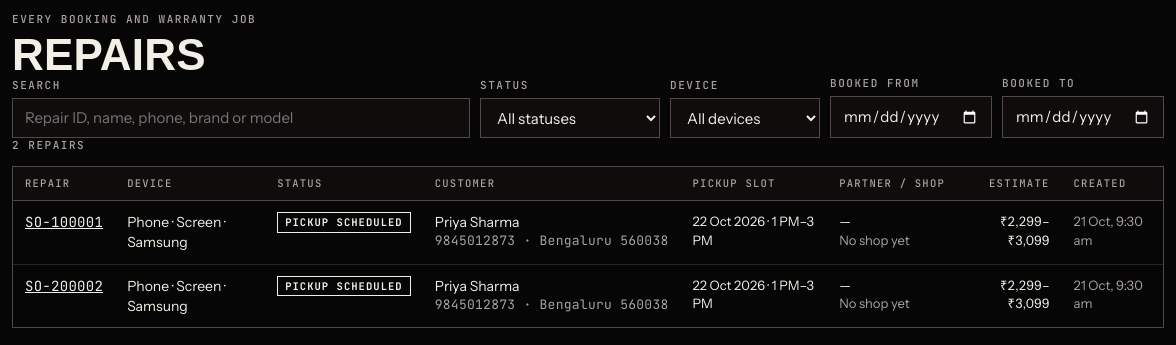
Test: repair list filtering › lists repairs and filters by search after a pause
The image size is (1176, 345).
Expected: the link "SO-100001" is shown, [25,213,103,231]
Type "1000" into the search field labelled "Search" at (241, 118), box [12,98,470,138]
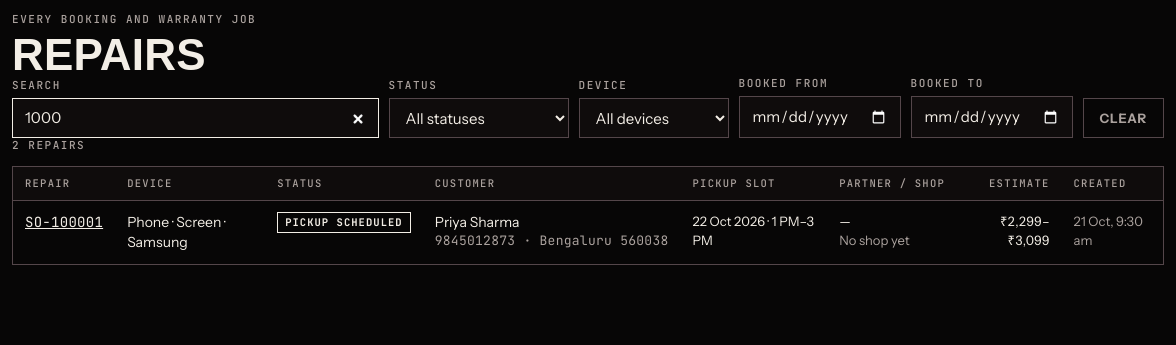
Expected: the link "SO-100001" is shown, [25,213,103,231]
Expected: the link "SO-200002" is gone
